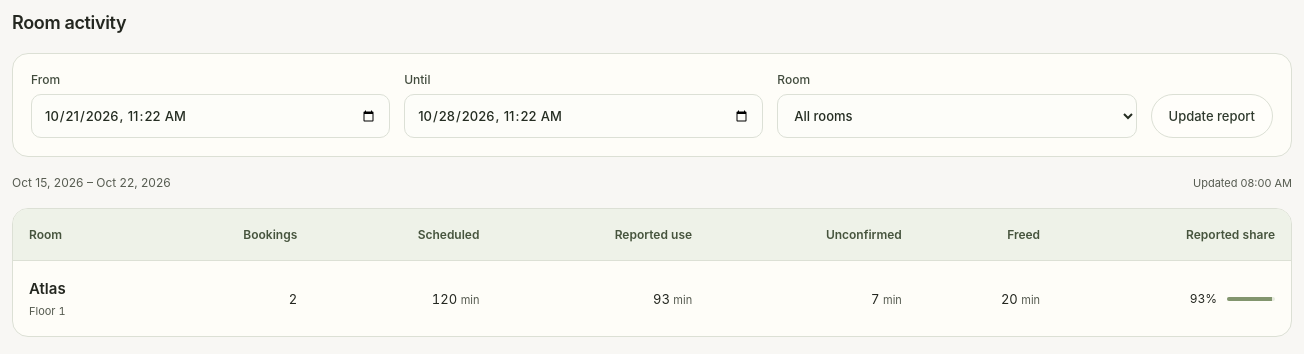
room usage › preserves the range when the backend rejects it
Expected: the table is shown, [13,209,1291,336]
Replace the text in the field labelled "From" with "2026-10-22T09:00": [211, 116] box [31,94,390,138]
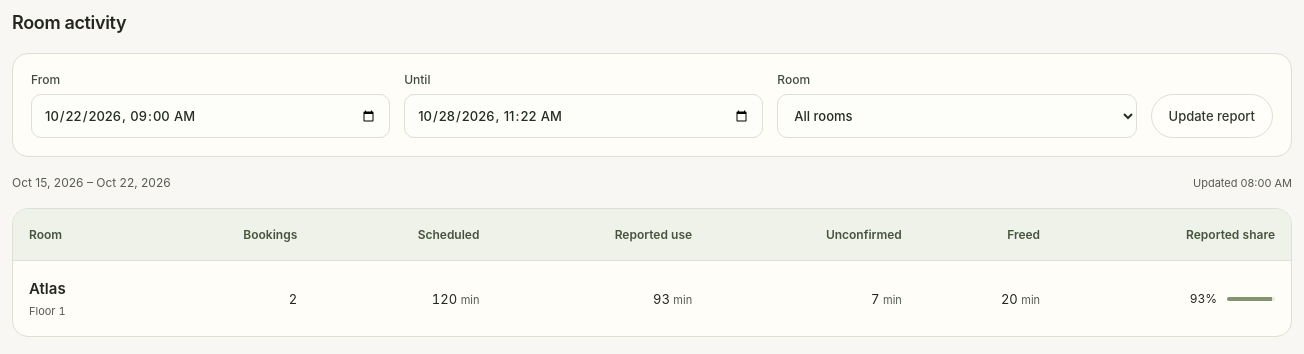
Replace the text in the field labelled "Until" with "2026-10-19T09:00": [584, 116] box [404,94,763,138]
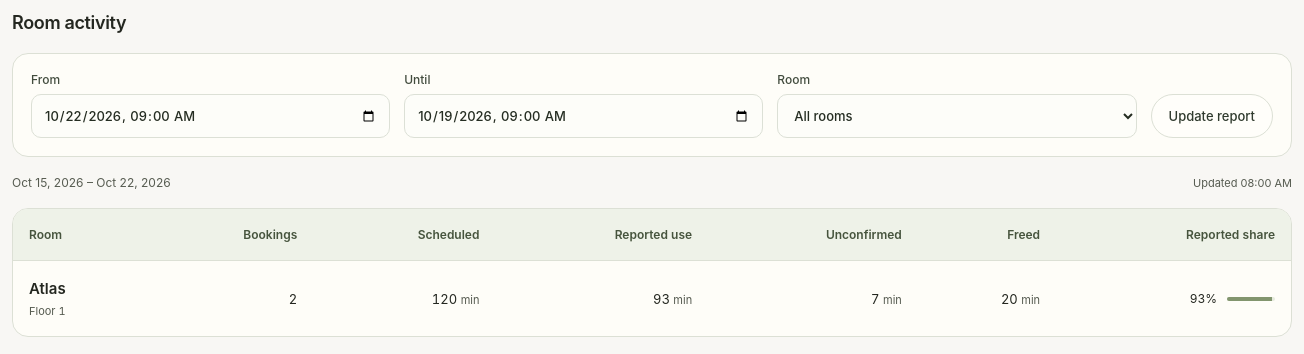
Click the button "Update report": [1212, 116] box [1150,94,1273,138]
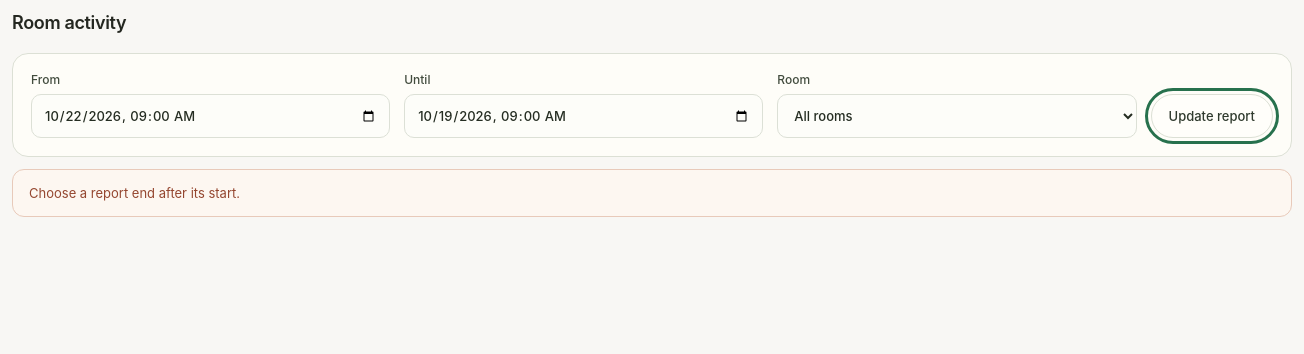
Expected: the message reads "Choose a report end after its start.", [29,185,240,201]
